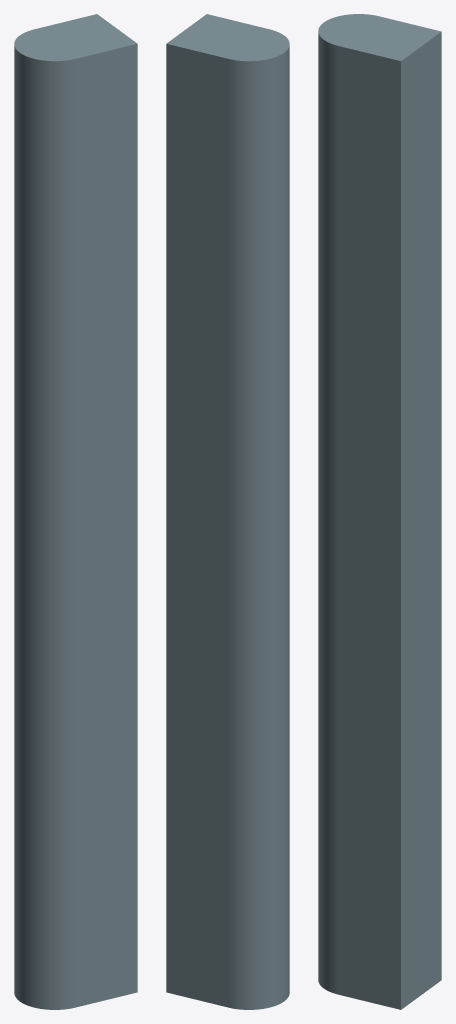
Rendered from step_02.glb.
The picture shows the model from 3 angles, left to right: view 1: azimuth 30°, elevation 25°; view 2: azimuth 150°, elevation 25°; view 3: azimuth 330°, elevation 25°; orthographic projection.
Parts seen in each view (by area): view 1: part__heel post; view 2: part__heel post; view 3: part__heel post.
Boxes of the visible parts, bbox=[...] form: part__heel post: bbox=[14, 14, 137, 1009]; part__heel post: bbox=[166, 14, 289, 1009]; part__heel post: bbox=[318, 14, 441, 1009].
Bounding box in the file's own units: 625 × 5800 × 450.
